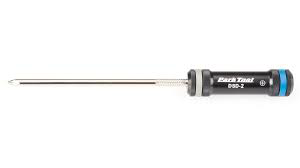Screwdriver: (8, 51, 300, 119)
